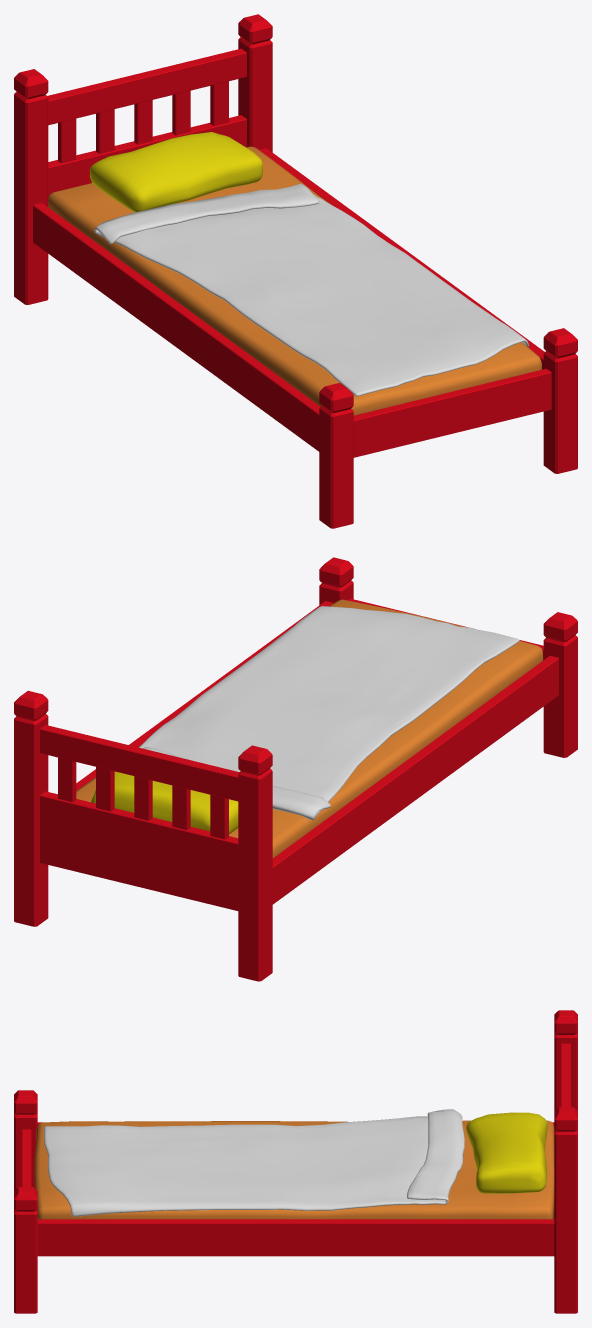
File: bed.glb
3 views of the same model, one above another, from view 1: azimuth 30°, elevation 25°; view 2: azimuth 150°, elevation 25°; view 3: azimuth 270°, elevation 25° (orthographic). The views are drawn at different scales.
Visible parts, largest first — view 1: Bed; view 2: Bed; view 3: Bed.
Boxes of the visible parts, x1,y1,x2,y2 form: Bed: (14,14,577,528); Bed: (14,557,577,981); Bed: (14,1010,577,1313).
Size of the model in its own units: 0.7864 by 0.6819 by 1.76.
